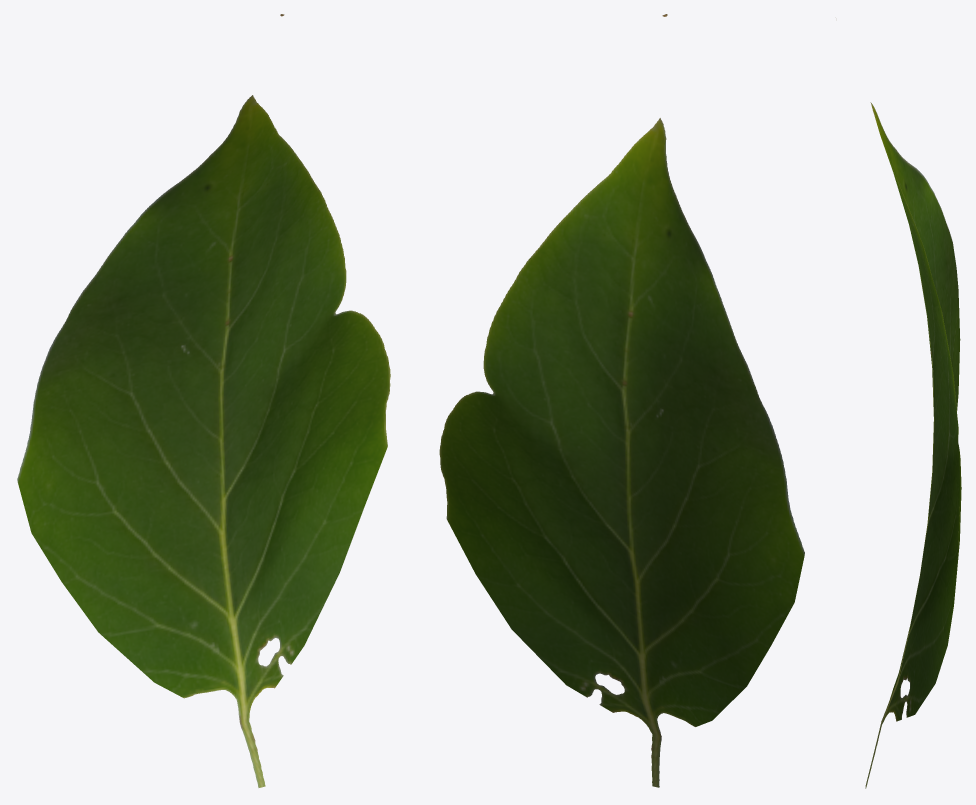
Rendered from leaf.gltf.
3 views of the same model, side by side, from view 1: azimuth 30°, elevation 25°; view 2: azimuth 150°, elevation 25°; view 3: azimuth 270°, elevation 25° (orthographic). The views are drawn at different scales.
Parts seen in each view (by area): view 1: Leaf_0; view 2: Leaf_0; view 3: Leaf_0.
Boxes of the visible parts, <box> form: Leaf_0: <box>17,14,390,787</box>; Leaf_0: <box>439,14,804,787</box>; Leaf_0: <box>865,102,961,788</box>.
Bounding box in the file's own units: 0.5845 × 1.13 × 0.1671.
1 material, 1 textured.
